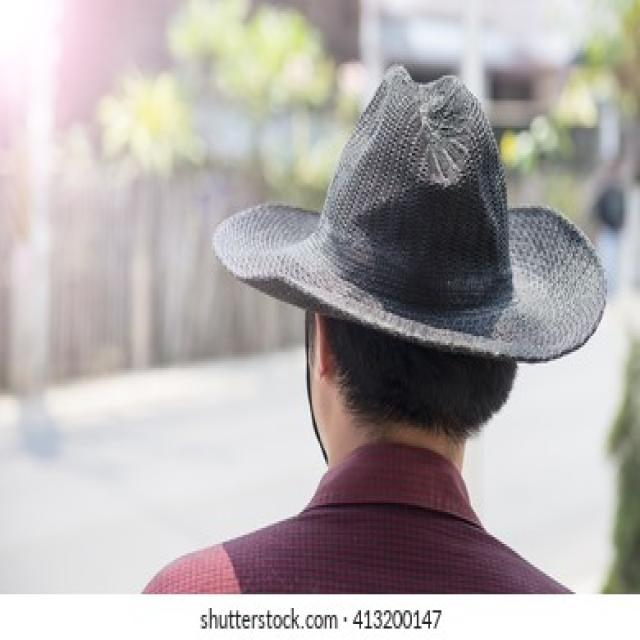hat: (215, 64, 607, 462)
